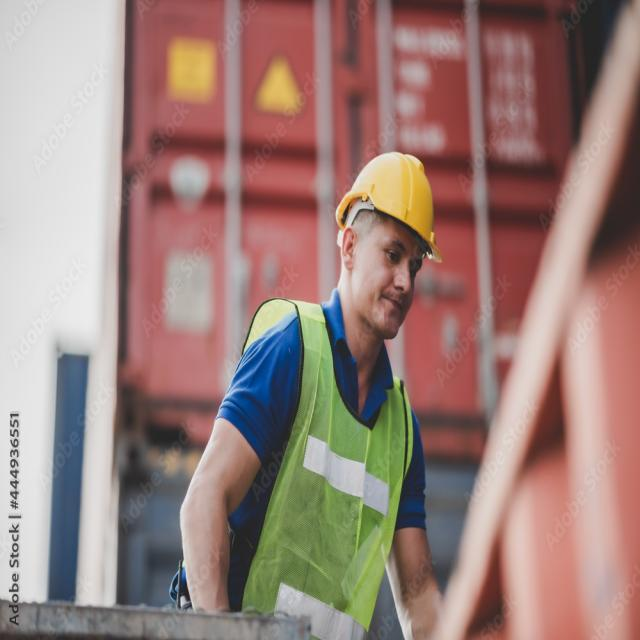helmet: (330, 153, 442, 263)
no-goggles: (364, 235, 434, 287)
vest: (241, 298, 418, 640)
